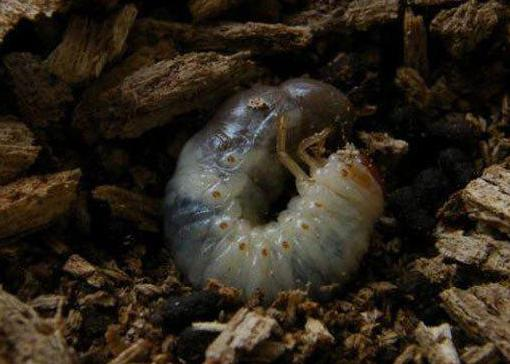grub: (163, 73, 398, 296)
